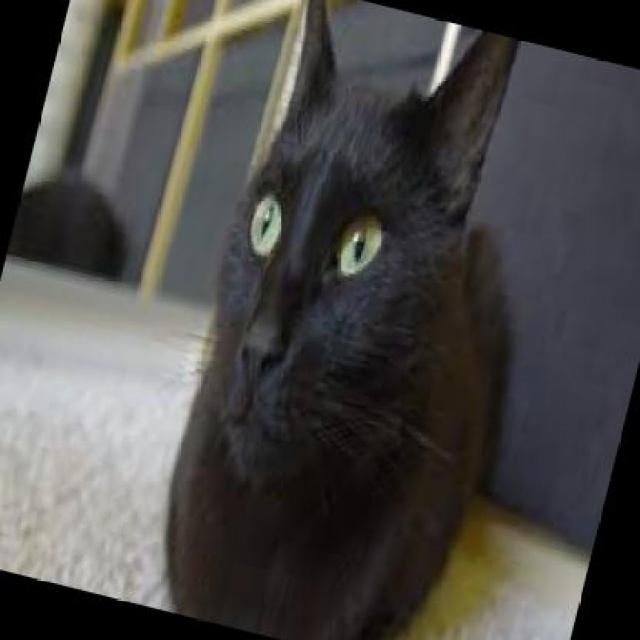animals: (127, 0, 598, 638)
